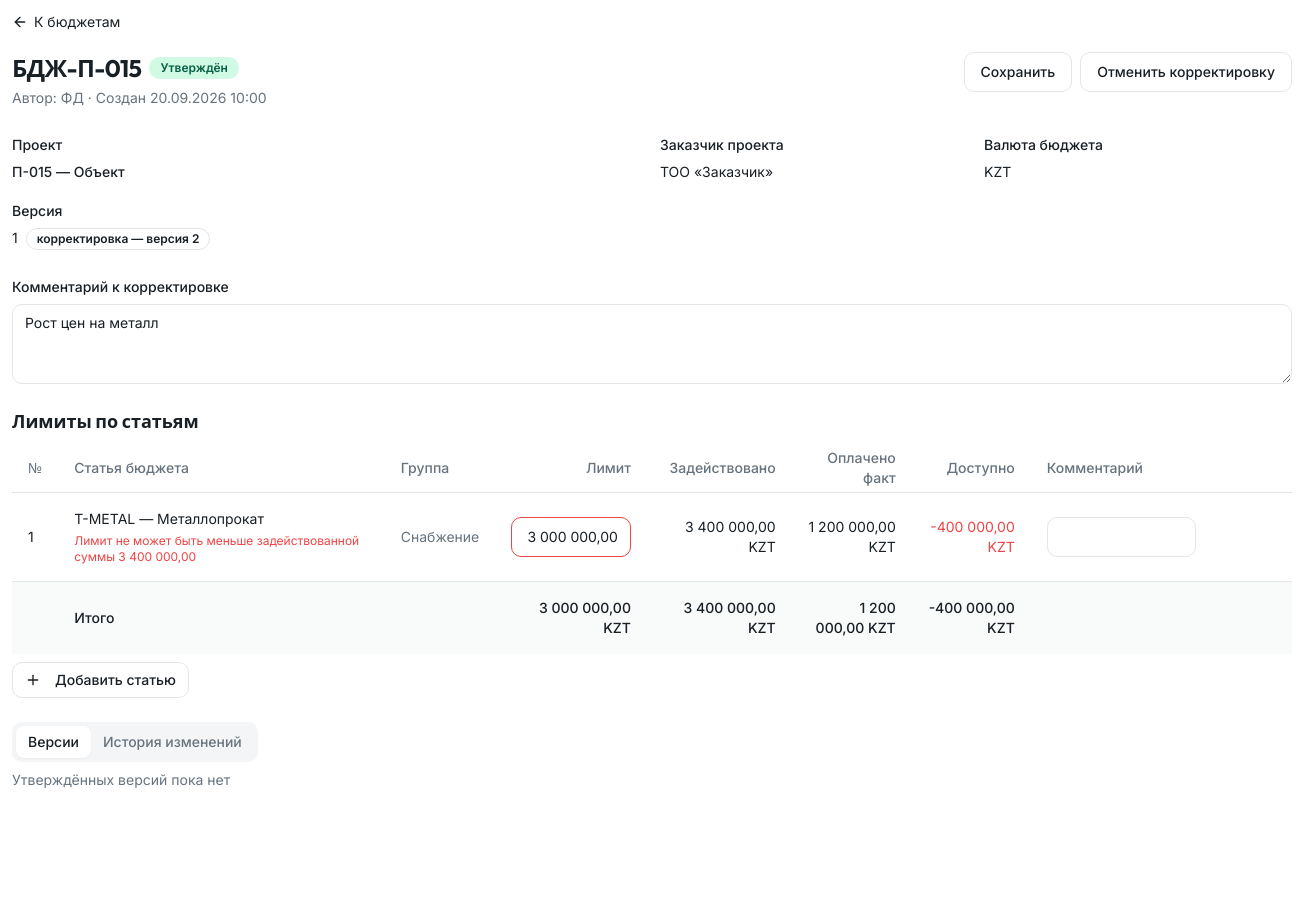
Test: BudgetCardPage › корректировка: лимит ниже задействованного подсвечен, утвердить нельзя
expect the text "Лимит не может быть меньше задействованной суммы 3 400 000,00" is shown: met, box [74,532,369,564]
expect the button "Отменить корректировку" is shown: met, box [1080,52,1292,92]
Clear the field named "Лимит" at point(571, 536), box [511,516,631,556]
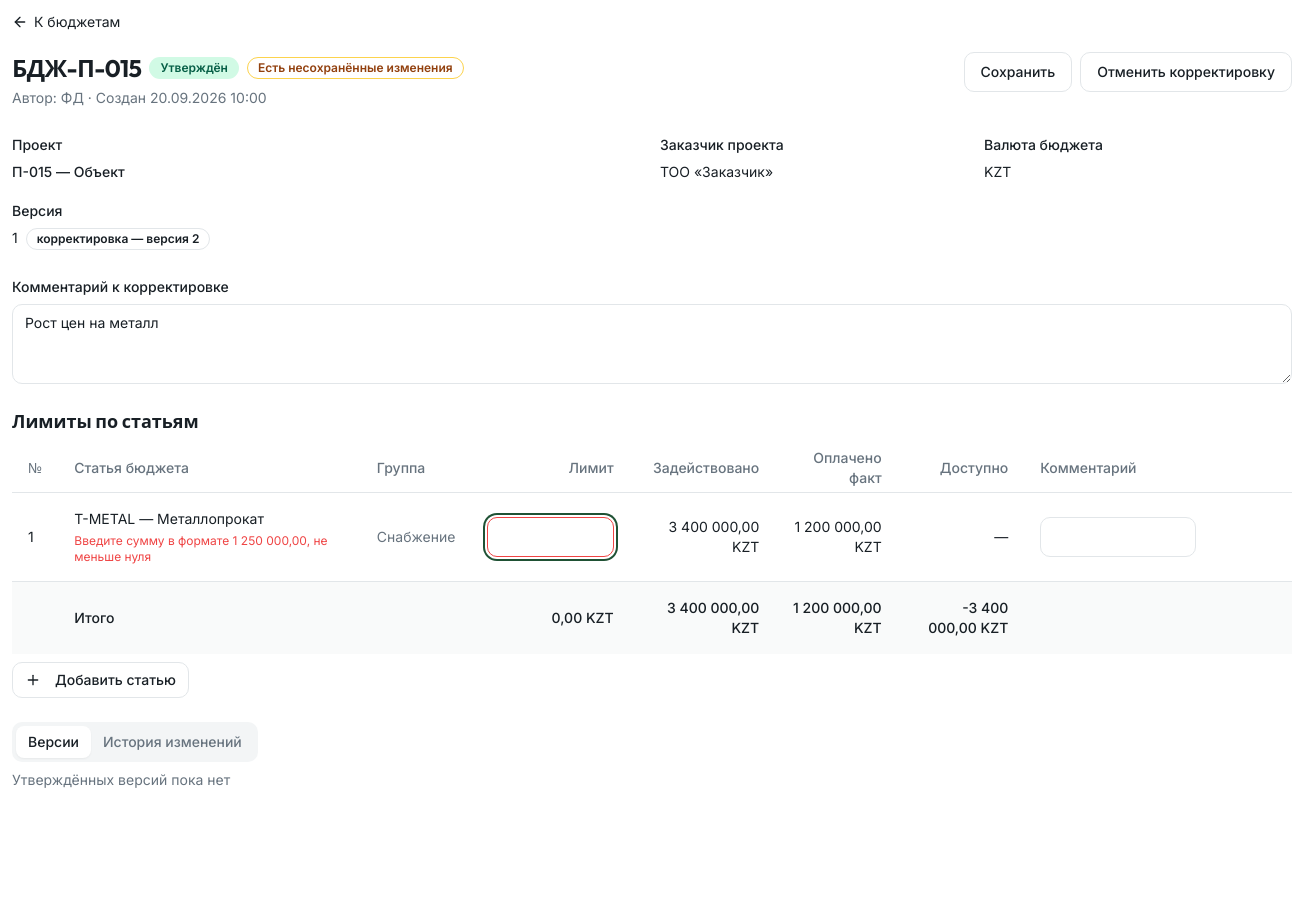
Type "3 500 000,00" into the field named "Лимит" at point(551, 536), box [487,516,614,556]
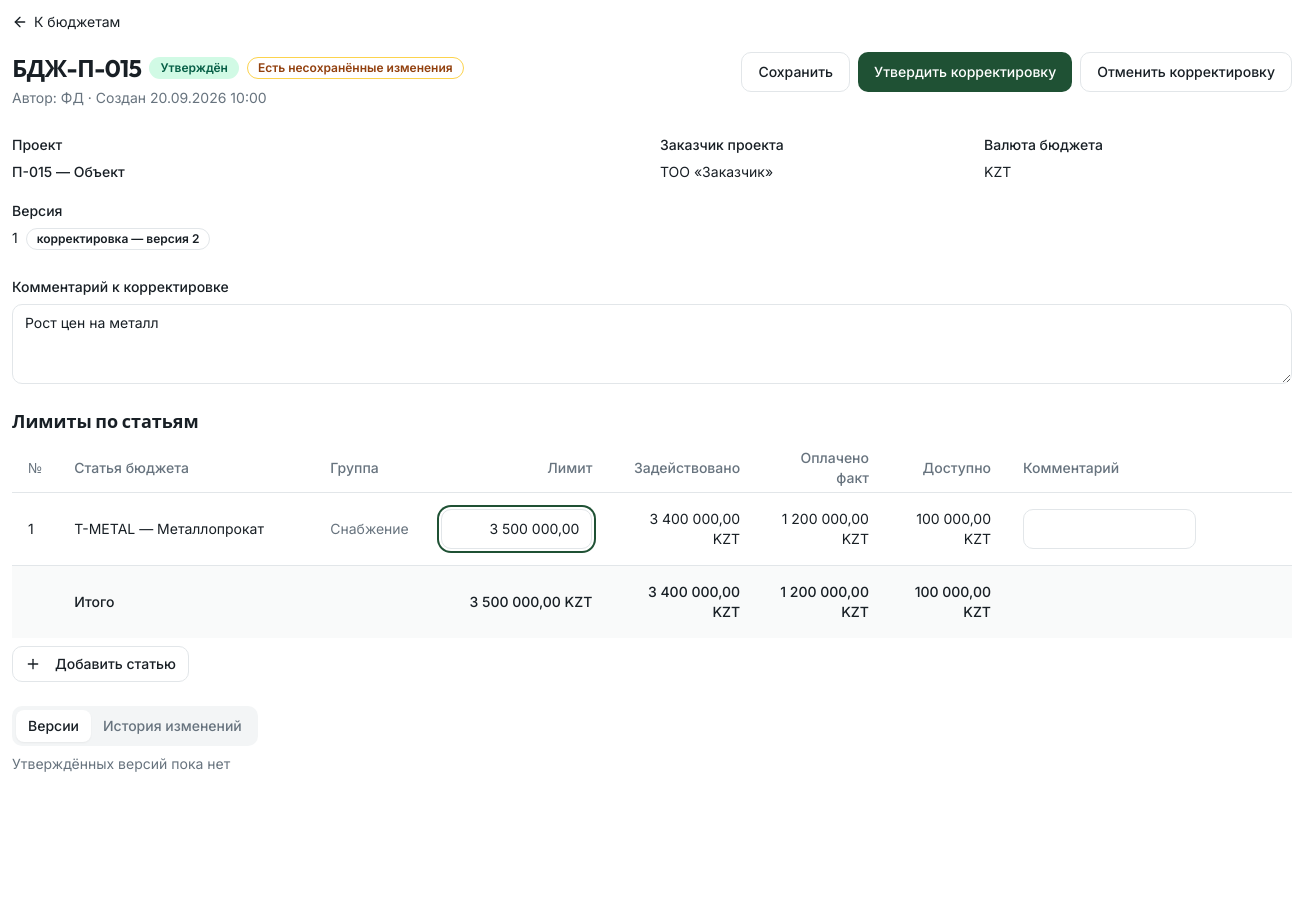
expect the button "Утвердить корректировку" is shown: met, box [858,52,1072,92]
